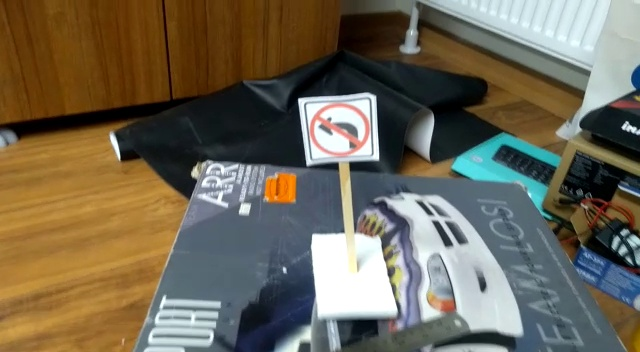sola_donulmez: (312, 98, 371, 160)
